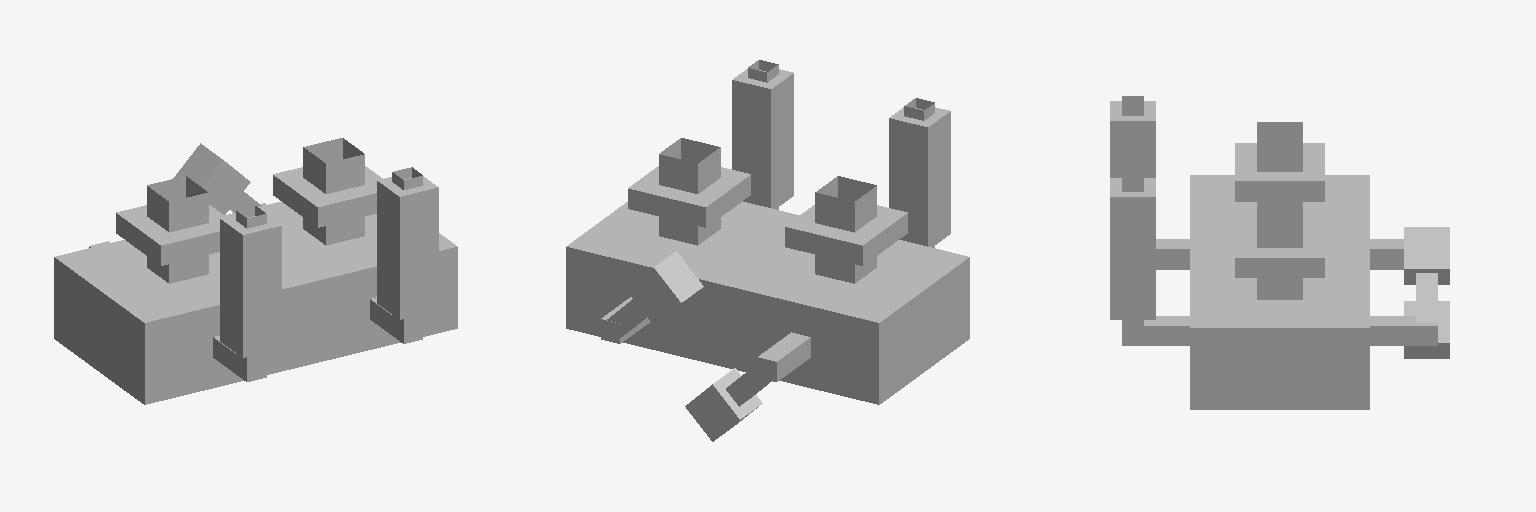
File: marx_stage.obj
3 views of the same model, side by side, from view 1: azimuth 30°, elevation 25°; view 2: azimuth 150°, elevation 25°; view 3: azimuth 270°, elevation 25° (orthographic).
Visible parts, largest first — view 1: Cube.003_Cube.013; view 2: Cube.003_Cube.013; view 3: Cube.003_Cube.013.
Part boxes in pixels (left/top/right/bottom): Cube.003_Cube.013: left=54, top=138, right=457, bottom=404; Cube.003_Cube.013: left=566, top=60, right=969, bottom=441; Cube.003_Cube.013: left=1110, top=96, right=1449, bottom=409.
Bounding box in the file's own units: 2 × 1.43 × 1.88.